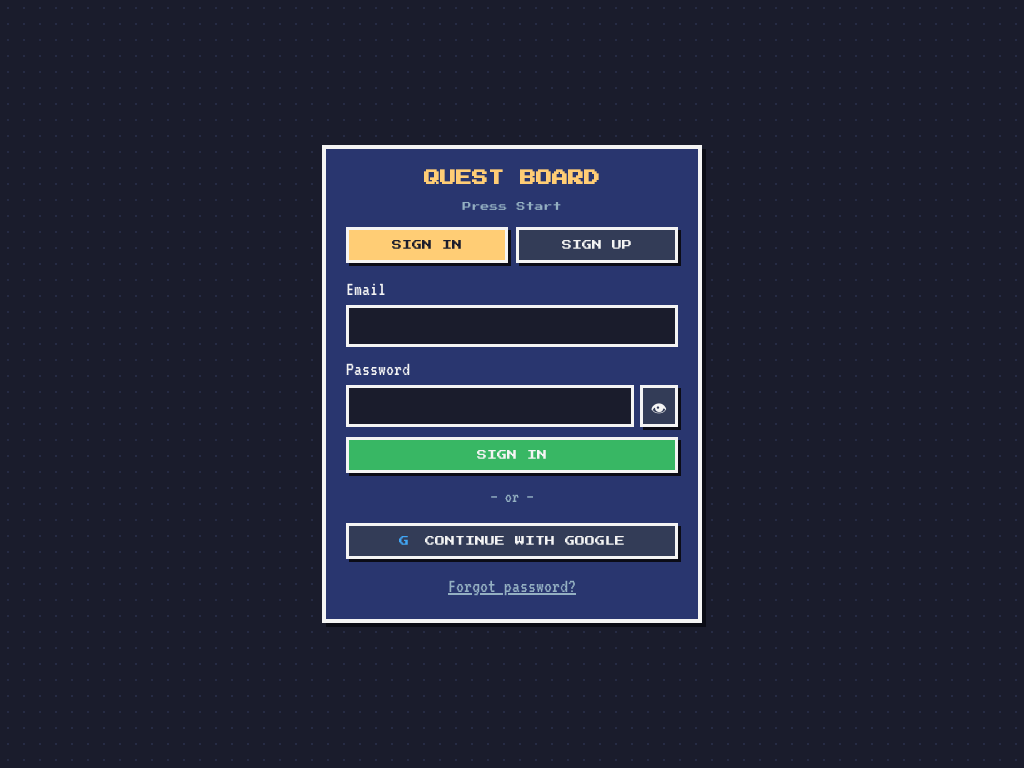
Test: AuthScreen › signs in and shows mapped errors
Type "a@b.co" into the field labelled "Email" at (512, 326), box [346,305,678,347]
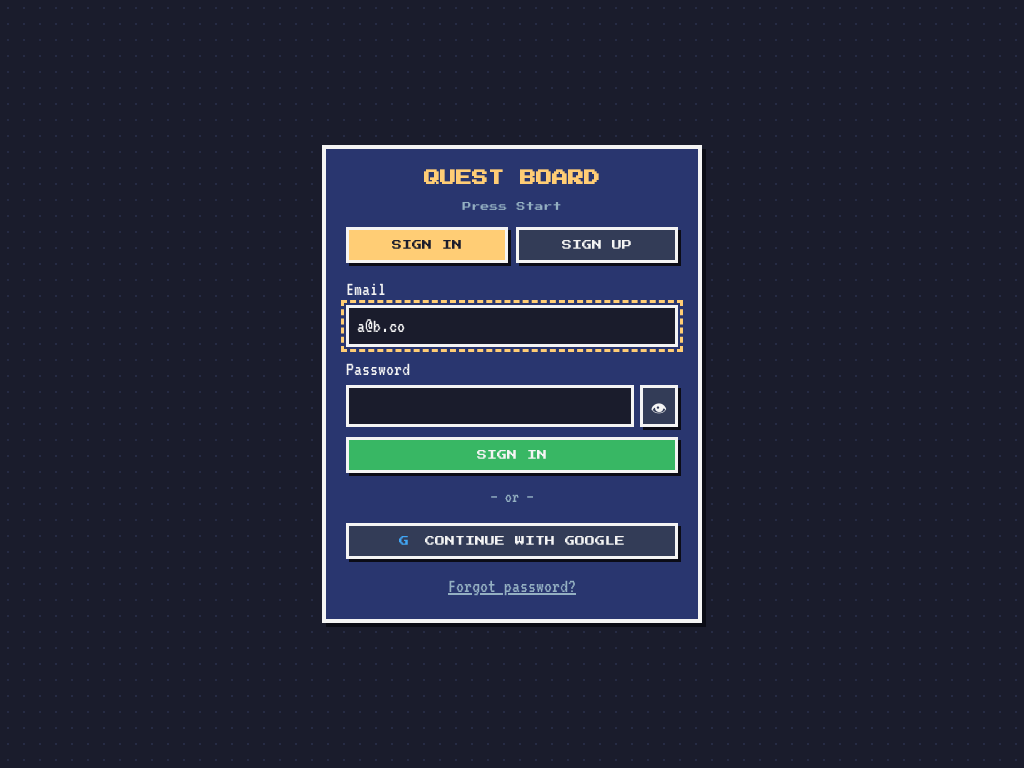
Type "password1" into the password field labelled "Password" at (490, 406), box [346,385,634,427]
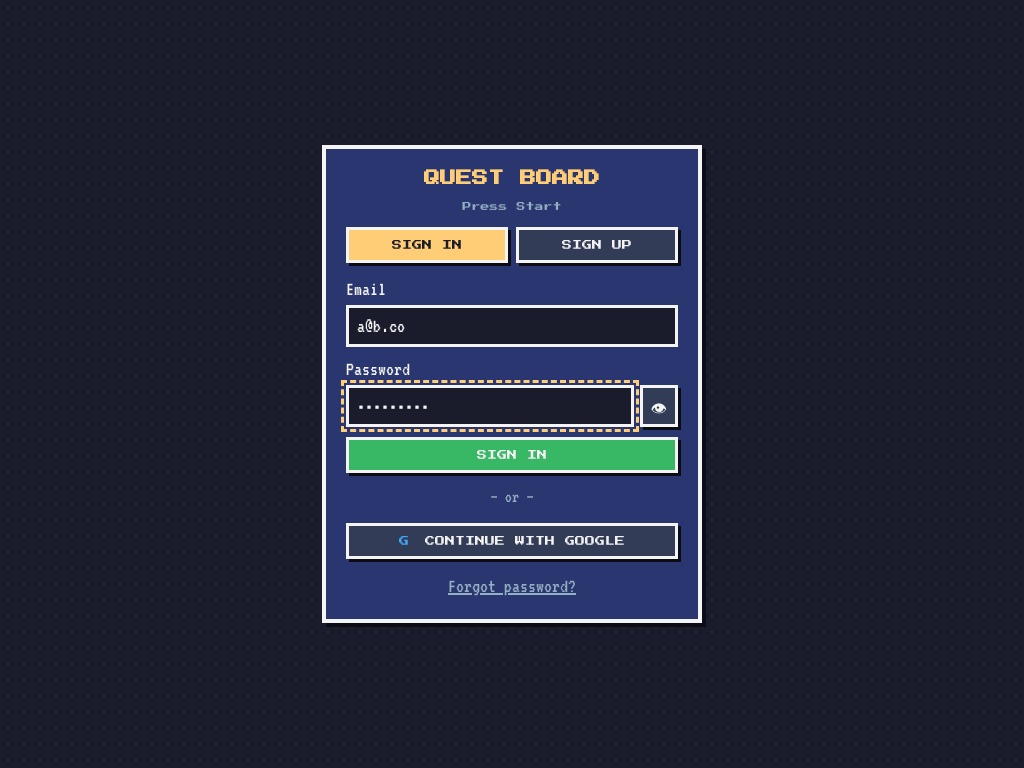
Click the button "Sign in" at (512, 455), box [346,437,678,473]
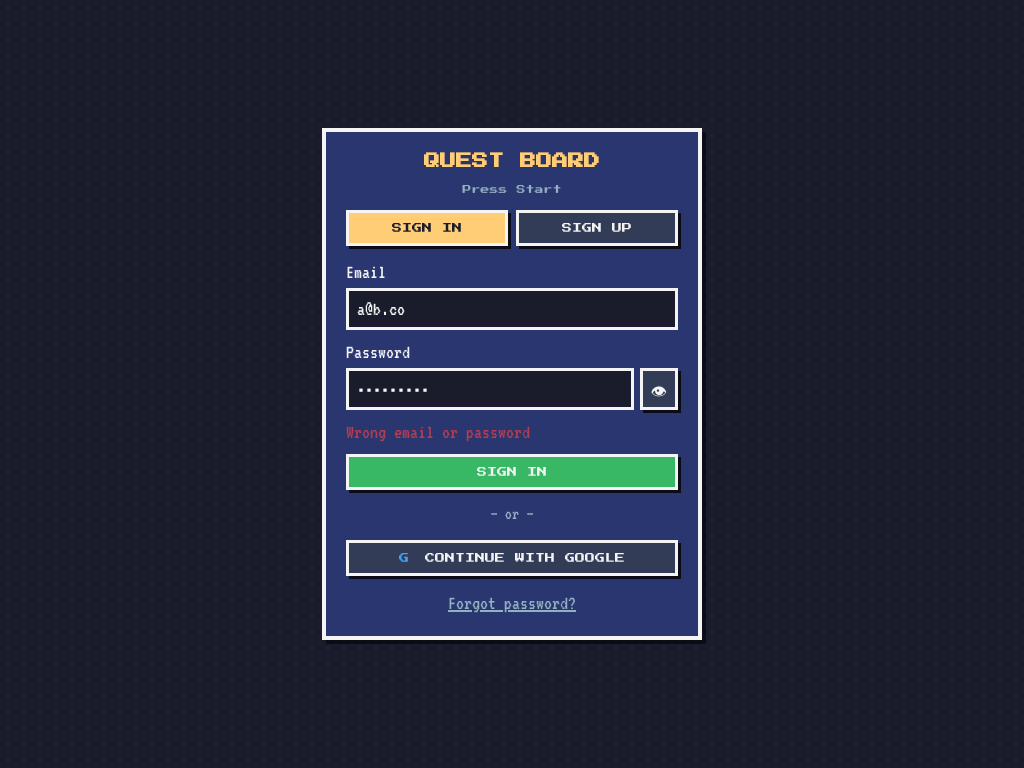
Expected: the message reads "Wrong email or password", [346,422,530,442]
